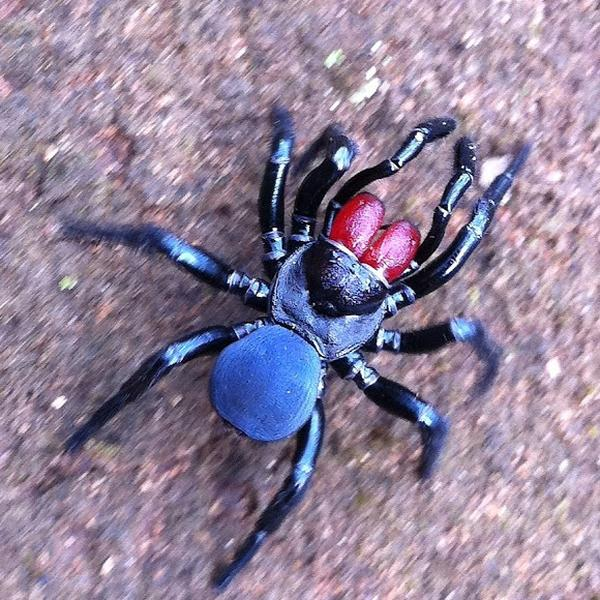Red Headed Mouse Spider: (85, 118, 530, 565)
